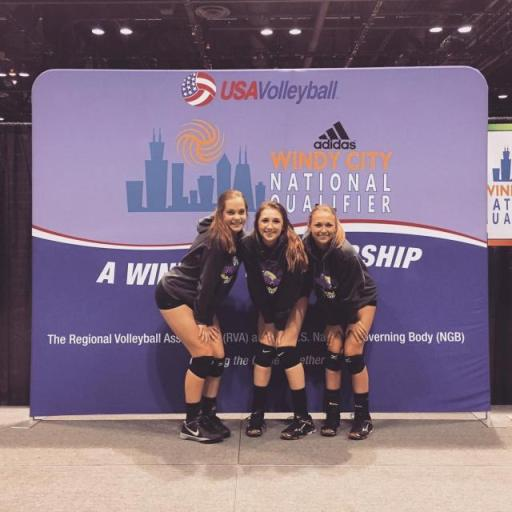Adidas: (311, 120, 357, 153)
